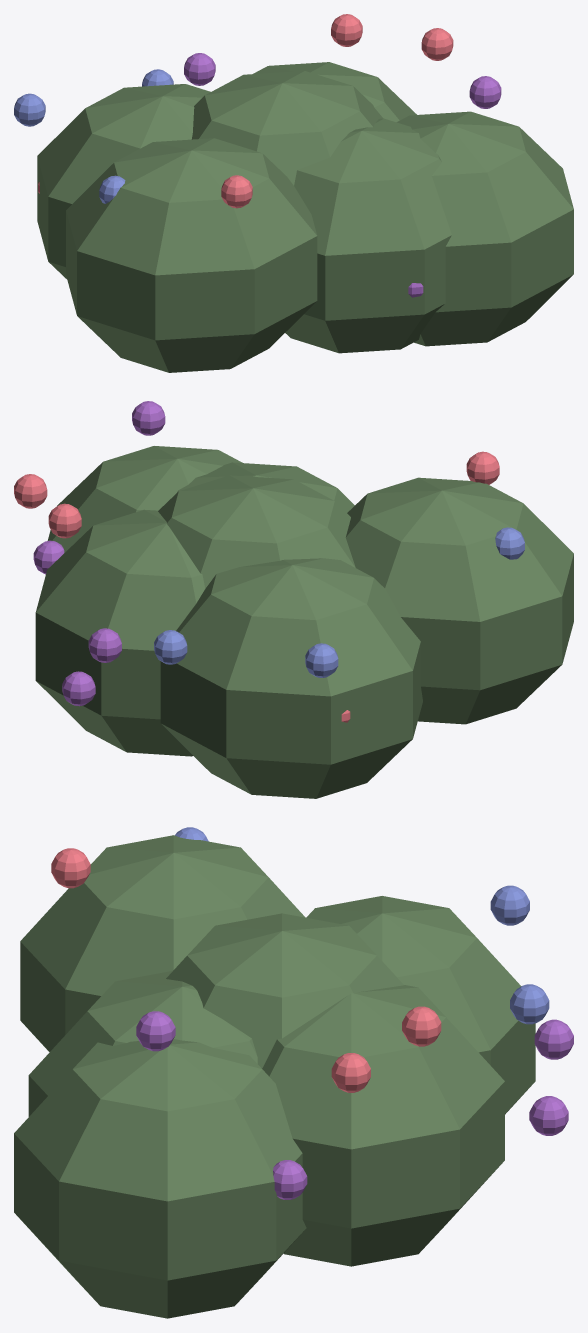
File: Food_BerryBush.fbx
3 renders of one model, top to bottom at view 1: azimuth 30°, elevation 25°; view 2: azimuth 150°, elevation 25°; view 3: azimuth 270°, elevation 25°, orthographic. The views are drawn at different scales.
Visible parts, largest first — view 1: Res_Food_BerryBush; view 2: Res_Food_BerryBush; view 3: Res_Food_BerryBush.
Part boxes in pixels (x1,y1,x2,y2): Res_Food_BerryBush: [14, 14, 573, 372]; Res_Food_BerryBush: [14, 401, 573, 798]; Res_Food_BerryBush: [14, 827, 573, 1318].
Size of the model in its own units: 1.68 by 0.8397 by 1.39.
